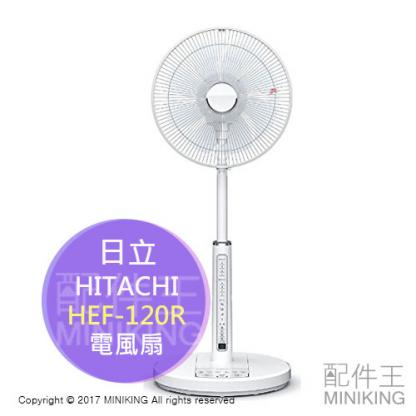fan: (140, 12, 312, 401)
